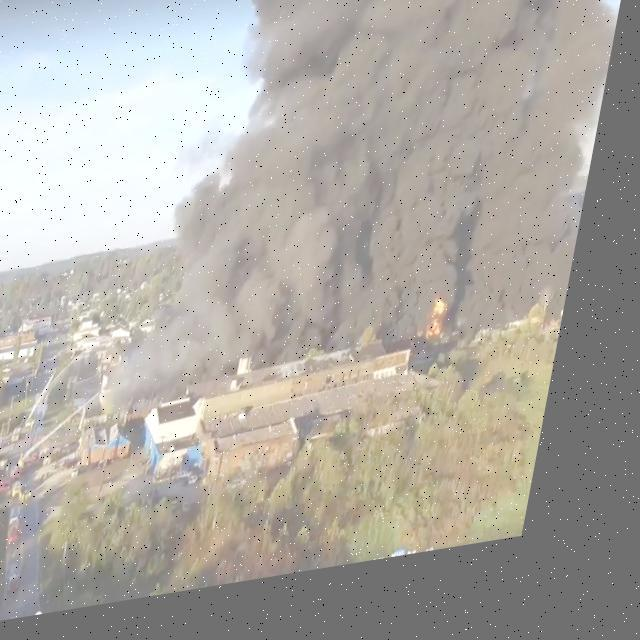Fire: (430, 306, 472, 362)
